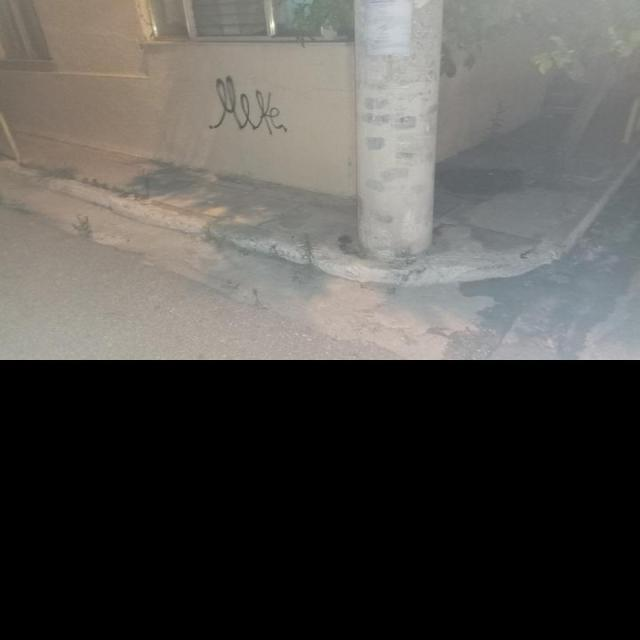nonspitting: (209, 75, 289, 136)
